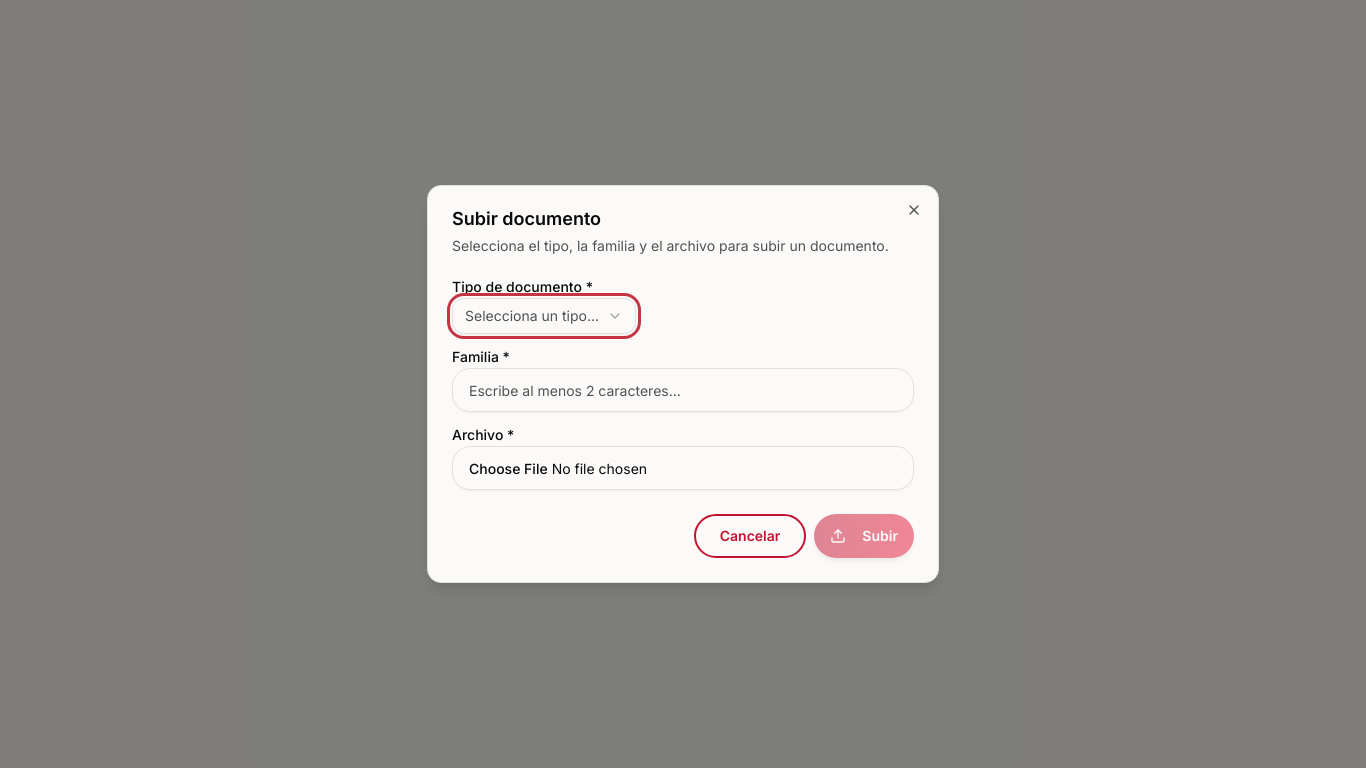
UploadModal › 10. selecting a miembro-scoped type WITH a family populates the Miembro picker from family.miembros
# Select miembro-scoped type
Click the dropdown named "Tipo de documento" at (544, 316), box [452, 298, 636, 334]
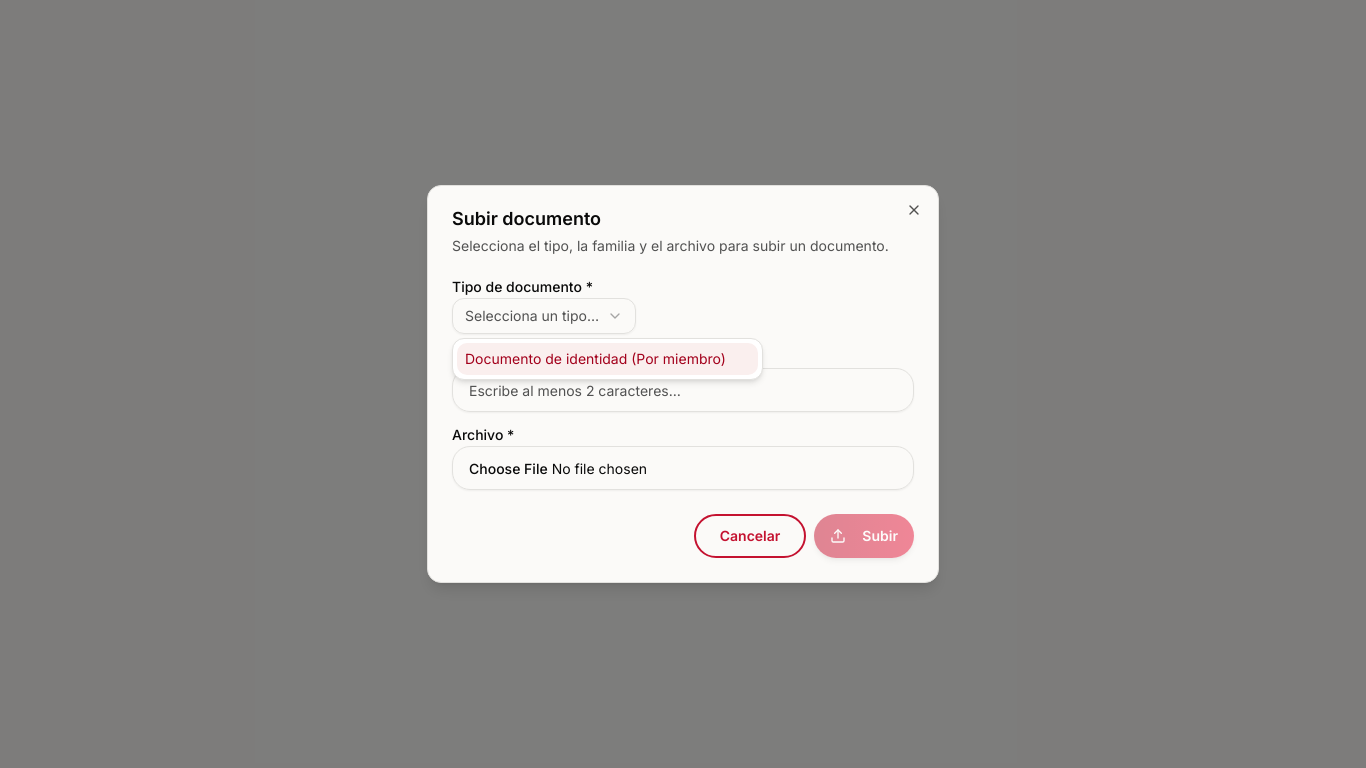
Click the option "Documento de identidad (Por miembro)" at (607, 359), box [457, 343, 758, 375]
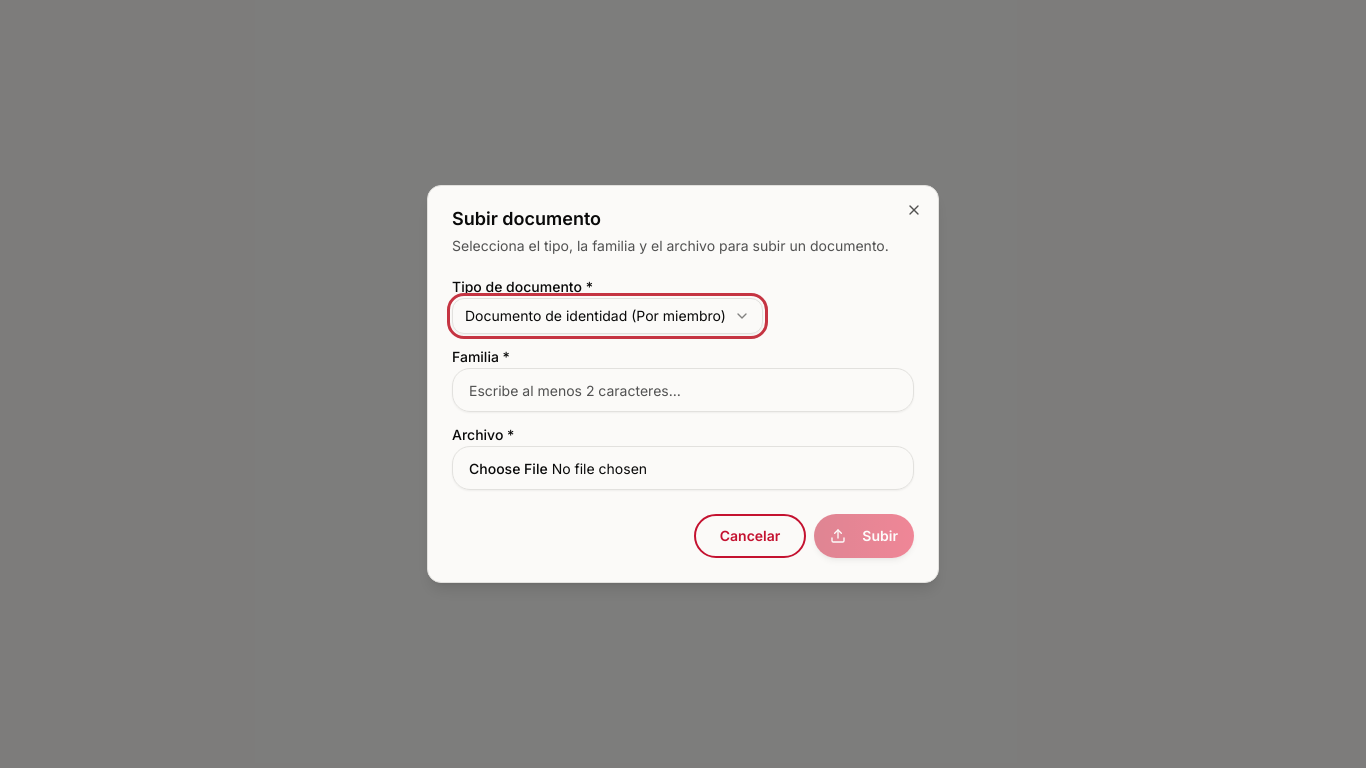
# Select a family
Type "An" into the field named "Buscar familia" at (683, 390), box [452, 368, 914, 412]
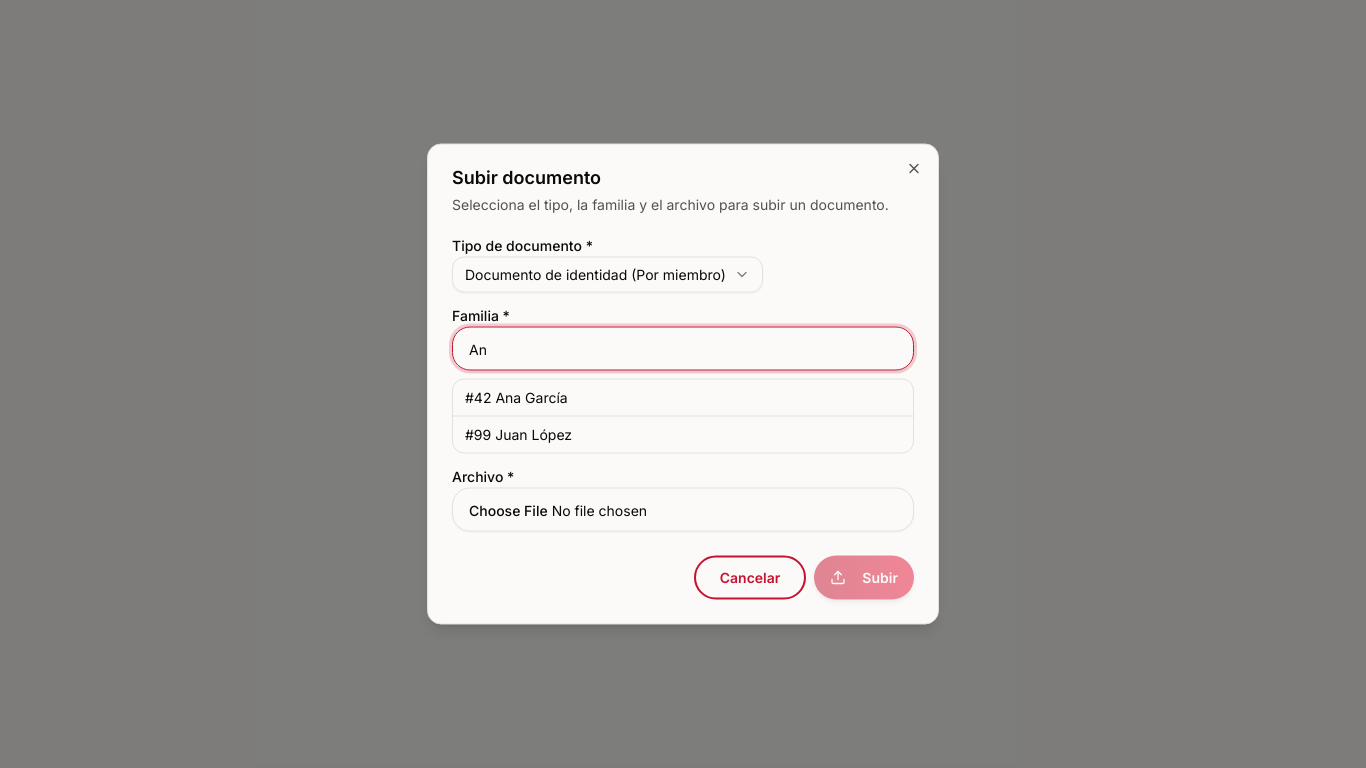
Click the button "#42 Ana García" at (516, 397), box [453, 380, 913, 416]
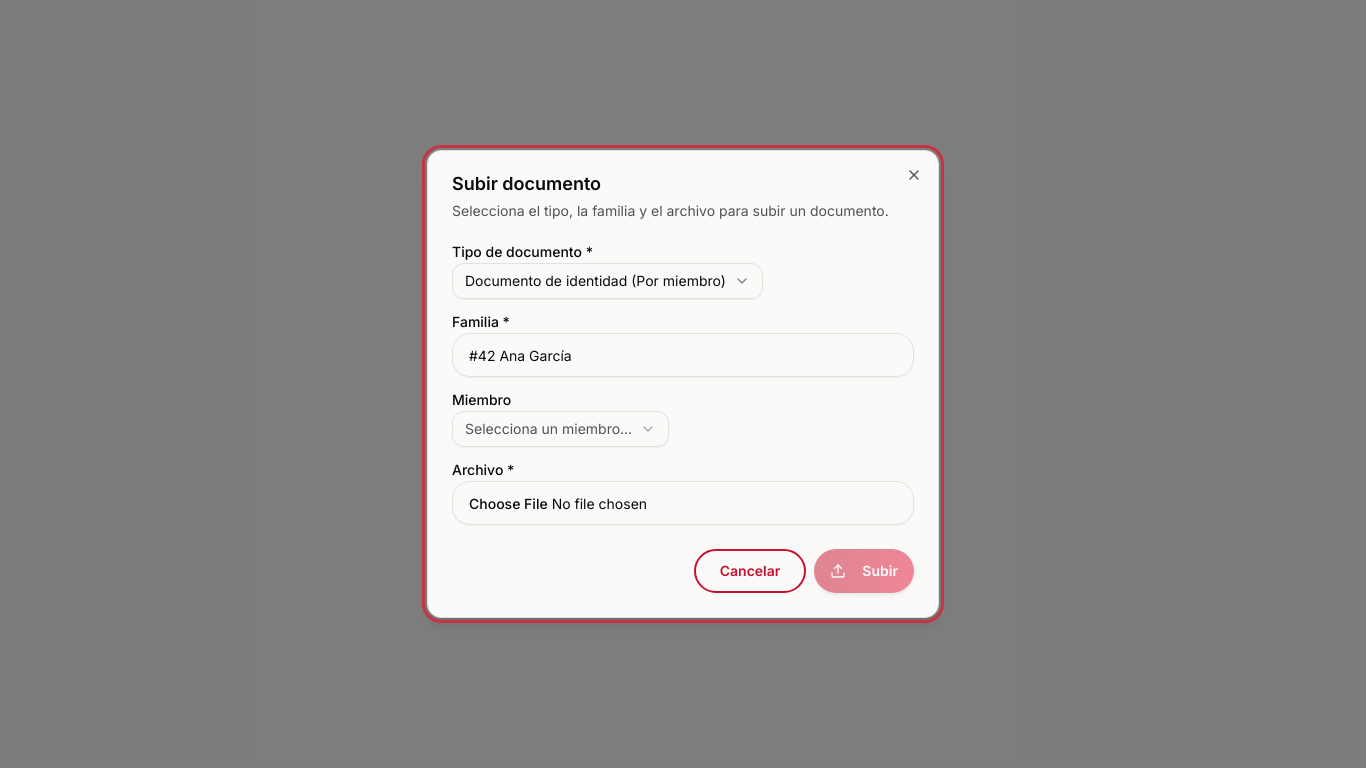
# Now miembro picker should appear
Click the dropdown labelled "miembro" at (561, 429), box [452, 411, 669, 447]
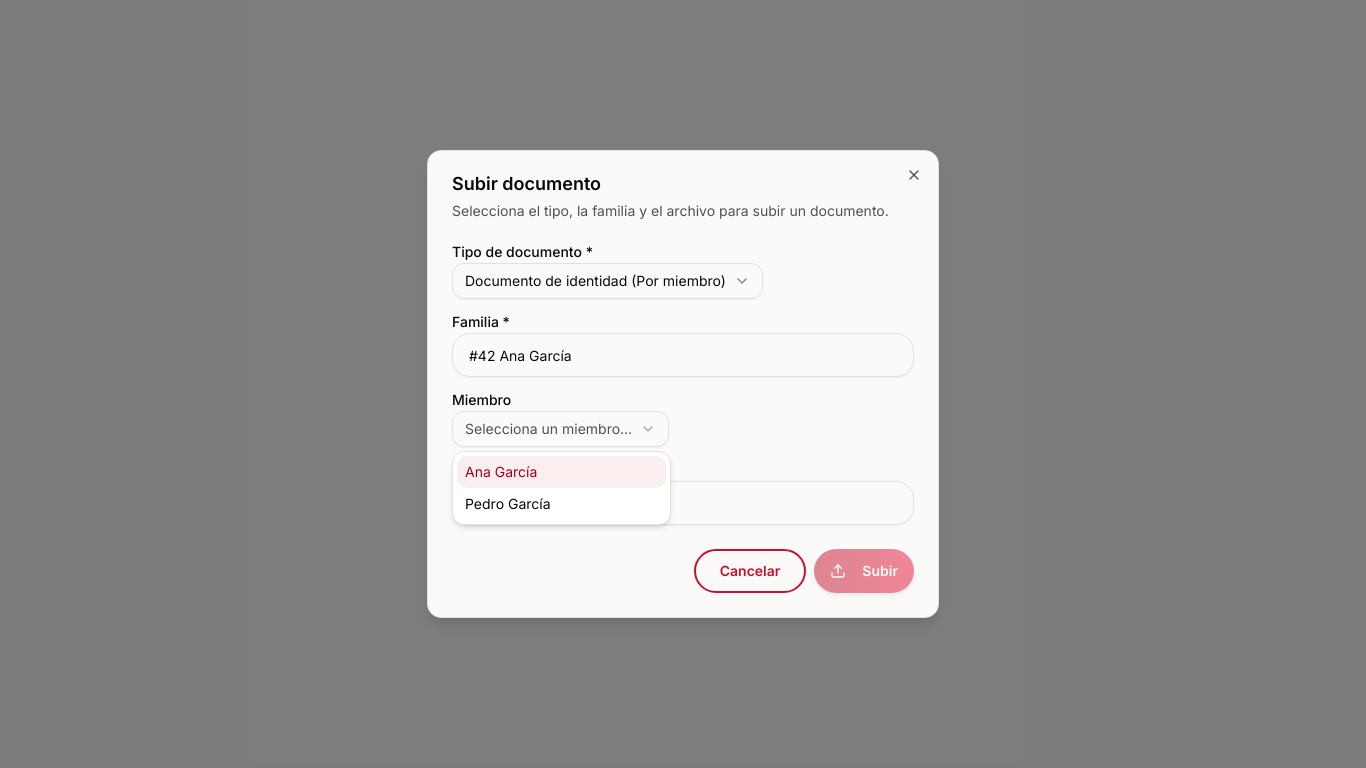
Check: the text "Ana García" is shown, box [465, 462, 537, 482]
Check: the text "Pedro García" is shown, box [465, 494, 551, 514]
